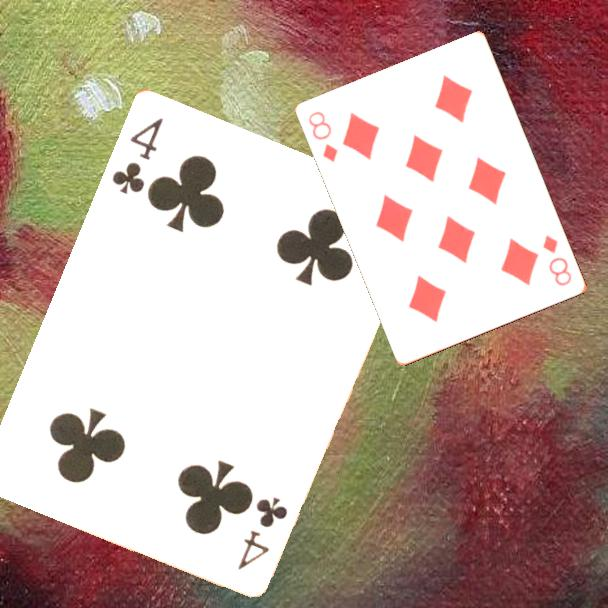c04: (108, 113, 166, 197), (233, 492, 291, 572)
d08: (305, 108, 341, 165), (540, 231, 575, 289)
